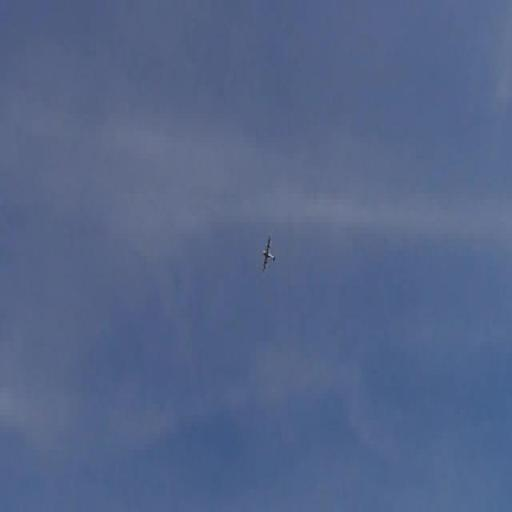uav: (259, 238, 280, 272)
